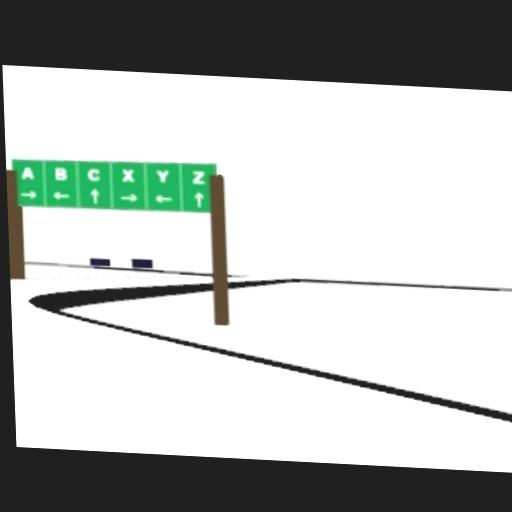A: (21, 166, 34, 180)
B: (55, 166, 68, 182)
C: (87, 167, 100, 182)
Left: (154, 193, 174, 205), (52, 191, 70, 203)
Right: (19, 189, 37, 202), (120, 193, 138, 204)
Straight: (193, 191, 205, 209), (89, 189, 101, 206)
X: (121, 167, 136, 183)
Y: (155, 169, 169, 183)
Z: (192, 168, 206, 186)
